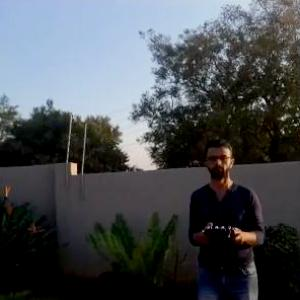follow: (186, 133, 270, 299)
